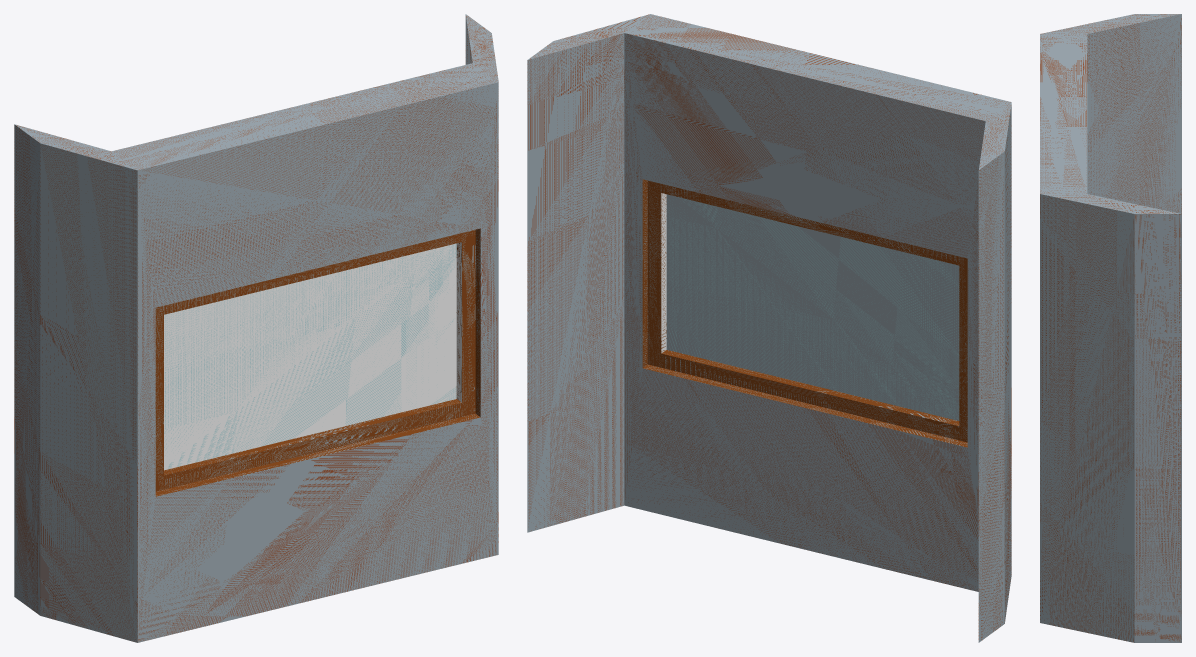
The model's file is window_bay_4.fbx.
3 renders of one model, left to right at view 1: azimuth 30°, elevation 25°; view 2: azimuth 150°, elevation 25°; view 3: azimuth 270°, elevation 25°, orthographic. The views are drawn at different scales.
Parts seen in each view (by area): view 1: Mesh1_window_15_1 Model; view 2: Mesh1_window_15_1 Model; view 3: Mesh1_window_15_1 Model.
Part boxes in pixels (x1,y1,x2,y2): Mesh1_window_15_1 Model: [14, 14, 498, 642]; Mesh1_window_15_1 Model: [527, 14, 1011, 642]; Mesh1_window_15_1 Model: [1040, 14, 1181, 642].
Bounding box in the file's own units: 1 × 1 × 0.3.
